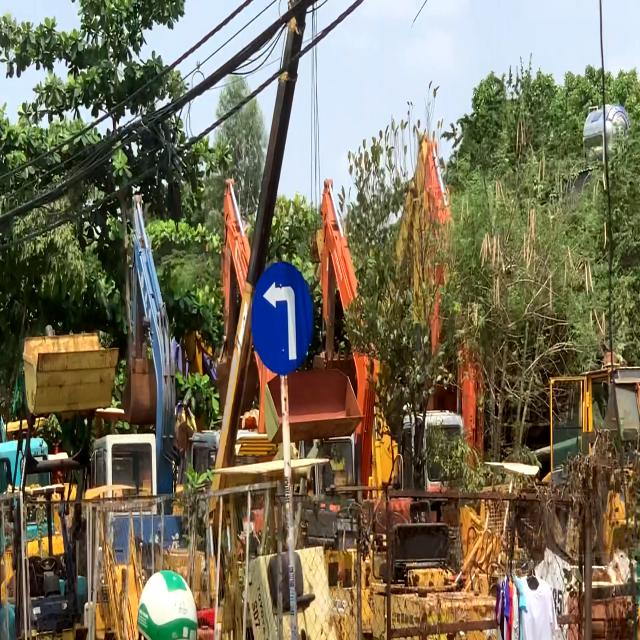R.301e: (250, 262, 314, 375)
